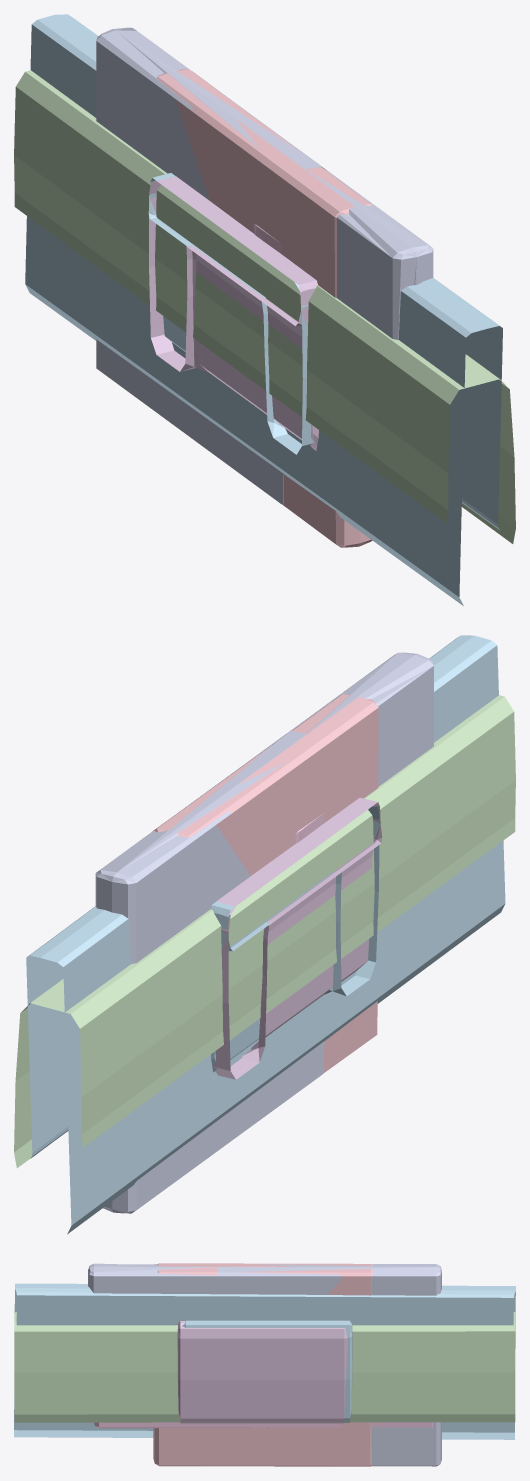
Rendered from view_input_colored.glb.
The picture shows the model from 3 angles, top to bottom: view 1: azimuth 30°, elevation 25°; view 2: azimuth 150°, elevation 25°; view 3: azimuth 270°, elevation 25°; orthographic projection. The views are drawn at different scales.
Parts seen in each view (by area): view 1: world; view 2: world; view 3: world.
Part boxes in pixels (box(x1,y1,x2,y2)): world: box(14, 14, 515, 606); world: box(14, 635, 515, 1234); world: box(14, 1263, 515, 1466).
Size of the model in its own units: 0.0948 by 0.3595 by 0.836.
